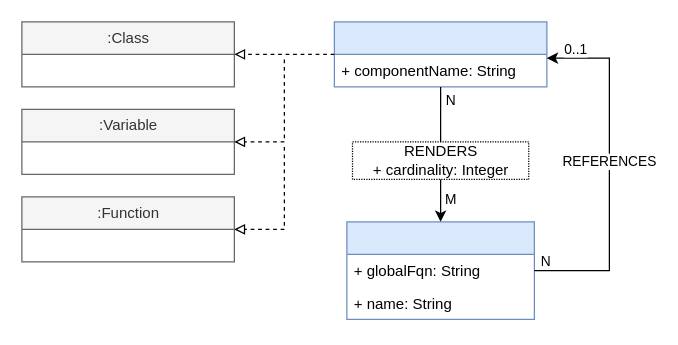
Some shapes in this 678 by 345 pixel diagram are drawn without their labels. Each missing label, with the box of its shape:
:JSXElementType: (346, 221, 534, 319)
:ReactComponent: (333, 21, 547, 87)
